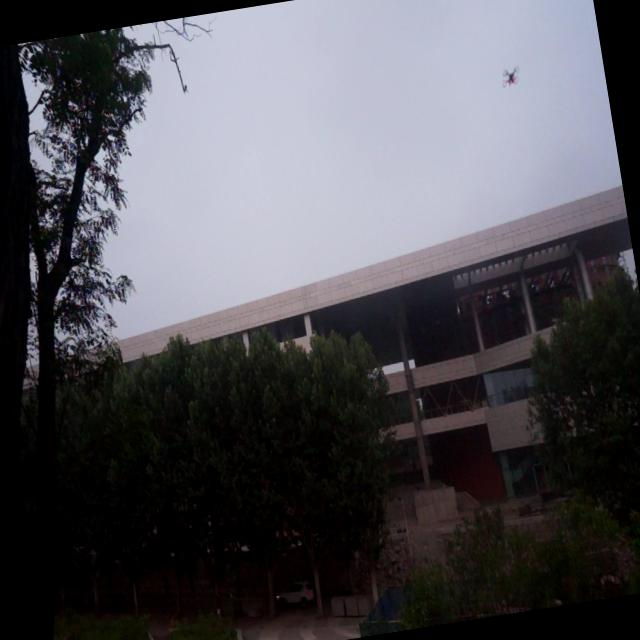drone: (498, 61, 524, 92)
